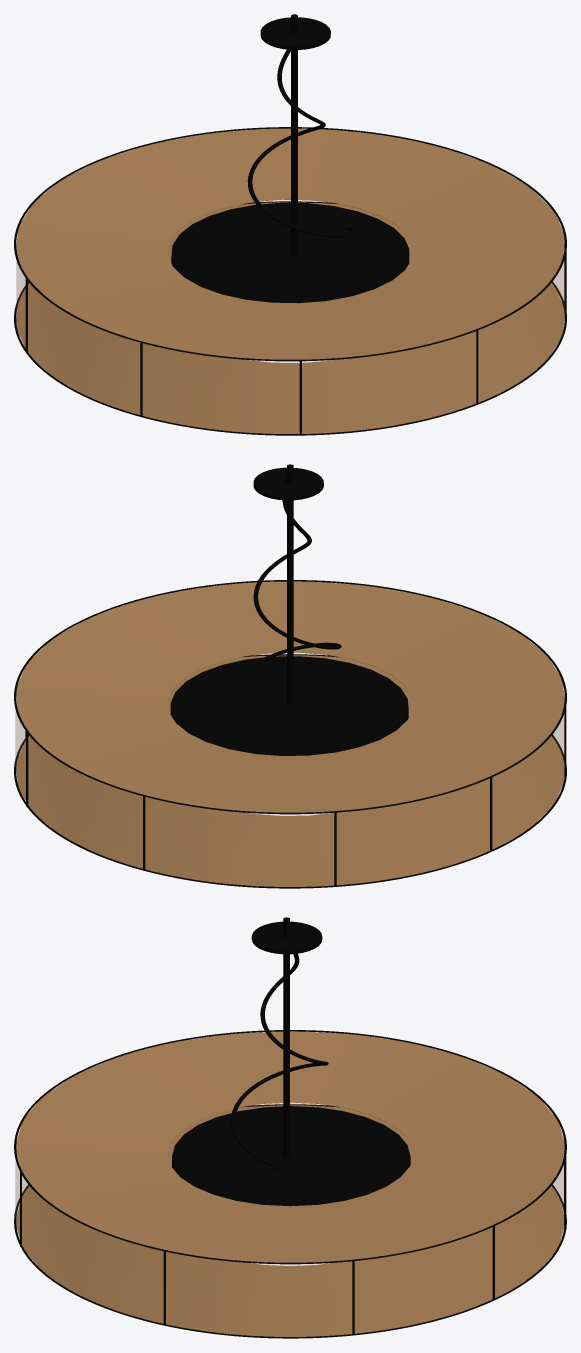
The model's file is lamp.FBX.
The picture shows the model from 3 angles, top to bottom: view 1: azimuth 30°, elevation 25°; view 2: azimuth 150°, elevation 25°; view 3: azimuth 270°, elevation 25°; orthographic projection.
Visible parts, largest first — view 1: Circle05, Circle04, Cylinder01, Cylinder02, Circle06, Circle03, Circle01, Line01, Helix01; view 2: Circle05, Circle04, Cylinder01, Cylinder02, Circle06, Circle03, Circle01, Helix01, Line01; view 3: Circle05, Circle04, Cylinder01, Cylinder02, Circle06, Circle01, Circle03, Helix01, Line01.
Boxes of the visible parts, bbox=[...] form: Circle05: bbox=[16, 128, 564, 359]; Circle04: bbox=[16, 202, 564, 433]; Cylinder01: bbox=[16, 200, 564, 433]; Cylinder02: bbox=[171, 202, 409, 303]; Circle06: bbox=[14, 127, 566, 361]; Circle03: bbox=[14, 201, 566, 435]; Circle01: bbox=[260, 17, 330, 49]; Line01: bbox=[291, 14, 297, 255]; Helix01: bbox=[247, 26, 355, 237]; Circle05: bbox=[16, 581, 564, 812]; Circle04: bbox=[16, 655, 564, 886]; Cylinder01: bbox=[15, 653, 564, 886]; Cylinder02: bbox=[170, 656, 408, 755]; Circle06: bbox=[14, 580, 566, 814]; Circle03: bbox=[14, 654, 566, 888]; Circle01: bbox=[253, 467, 323, 500]; Helix01: bbox=[235, 474, 341, 679]; Line01: bbox=[287, 464, 293, 705]; Circle05: bbox=[16, 1031, 564, 1262]; Circle04: bbox=[16, 1105, 564, 1336]; Cylinder01: bbox=[15, 1103, 563, 1336]; Cylinder02: bbox=[172, 1106, 410, 1206]; Circle06: bbox=[14, 1030, 566, 1264]; Circle01: bbox=[251, 921, 322, 954]; Circle03: bbox=[14, 1104, 566, 1338]; Helix01: bbox=[230, 928, 328, 1171]; Line01: bbox=[283, 917, 289, 1158].
Size of the model in its own units: 1.21 by 0.7314 by 1.21.
